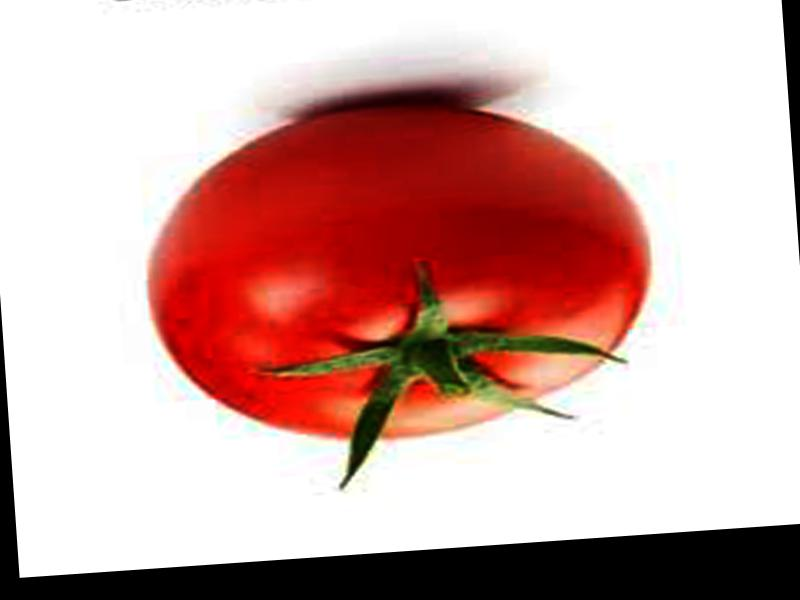Tomato: (143, 85, 654, 453)
